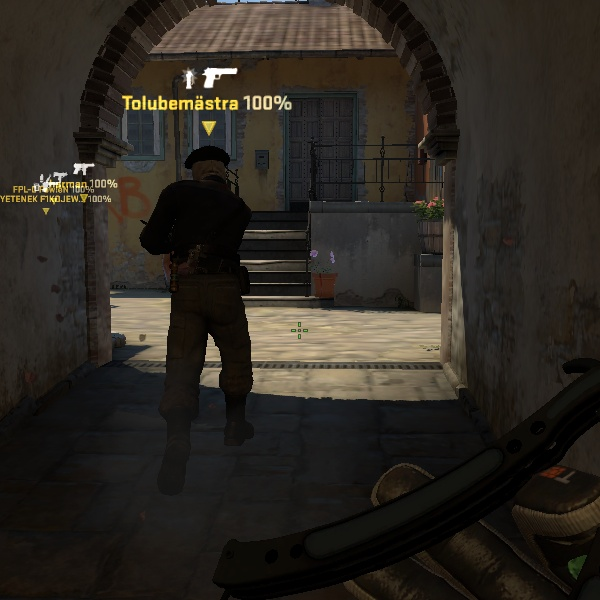ct_head: (178, 138, 239, 194)
t_body: (117, 135, 296, 446)
t_head: (174, 139, 241, 198)
